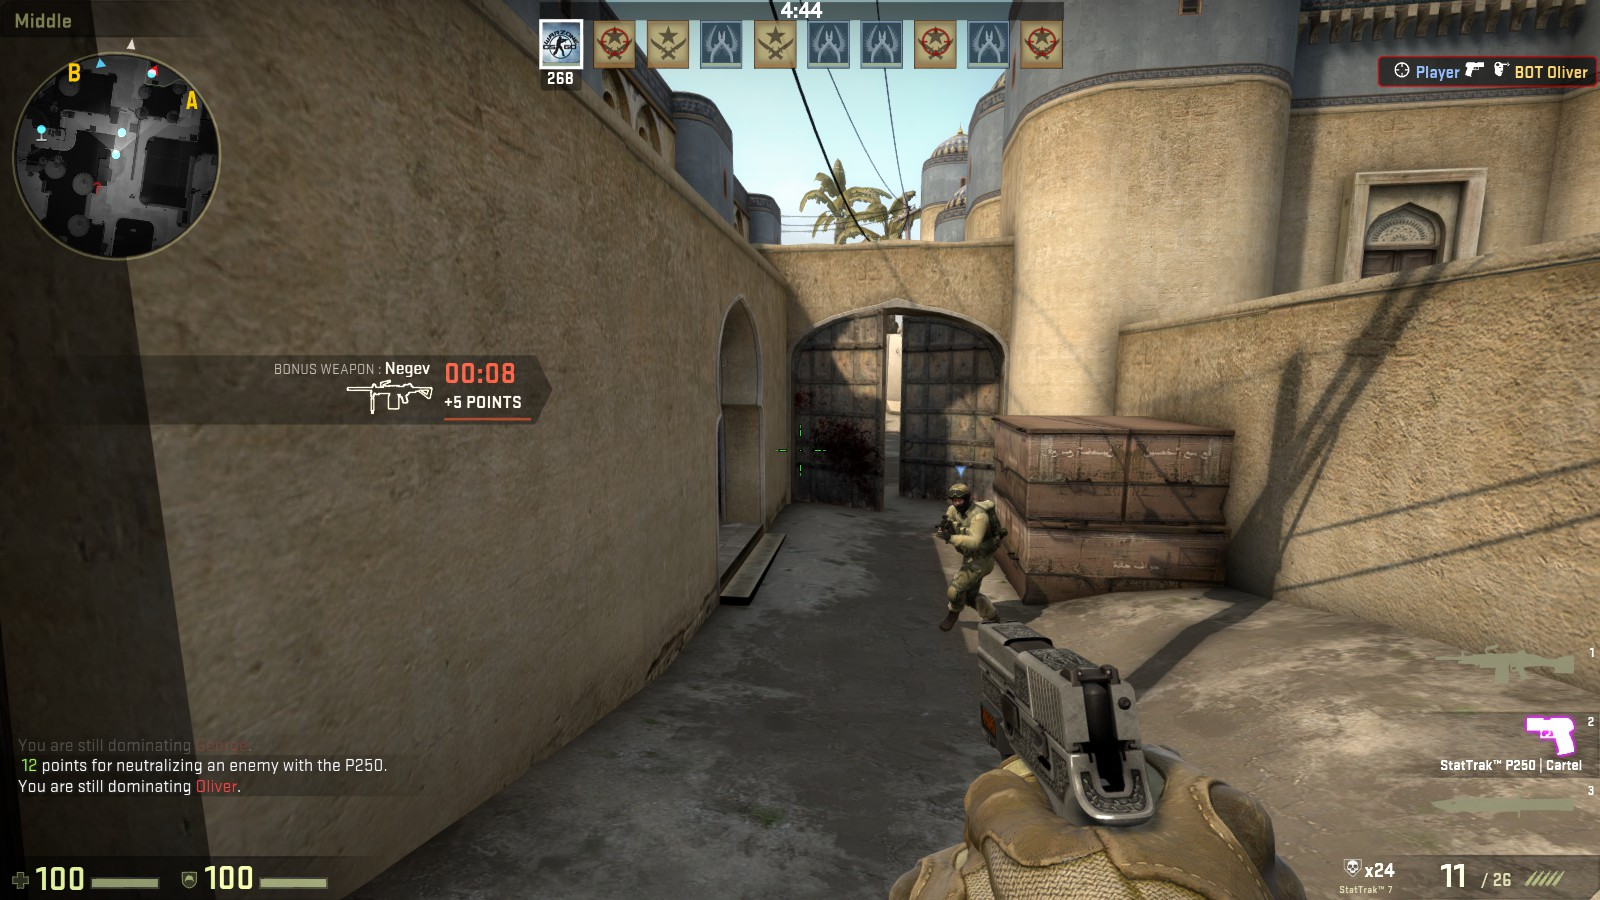c: (938, 481, 1004, 627)
ch: (947, 480, 975, 513)
